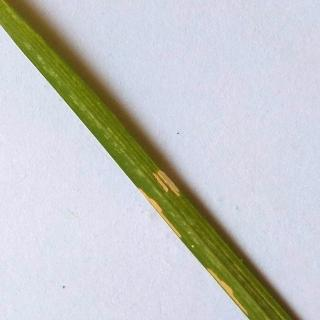Blast: (138, 149, 198, 229)
